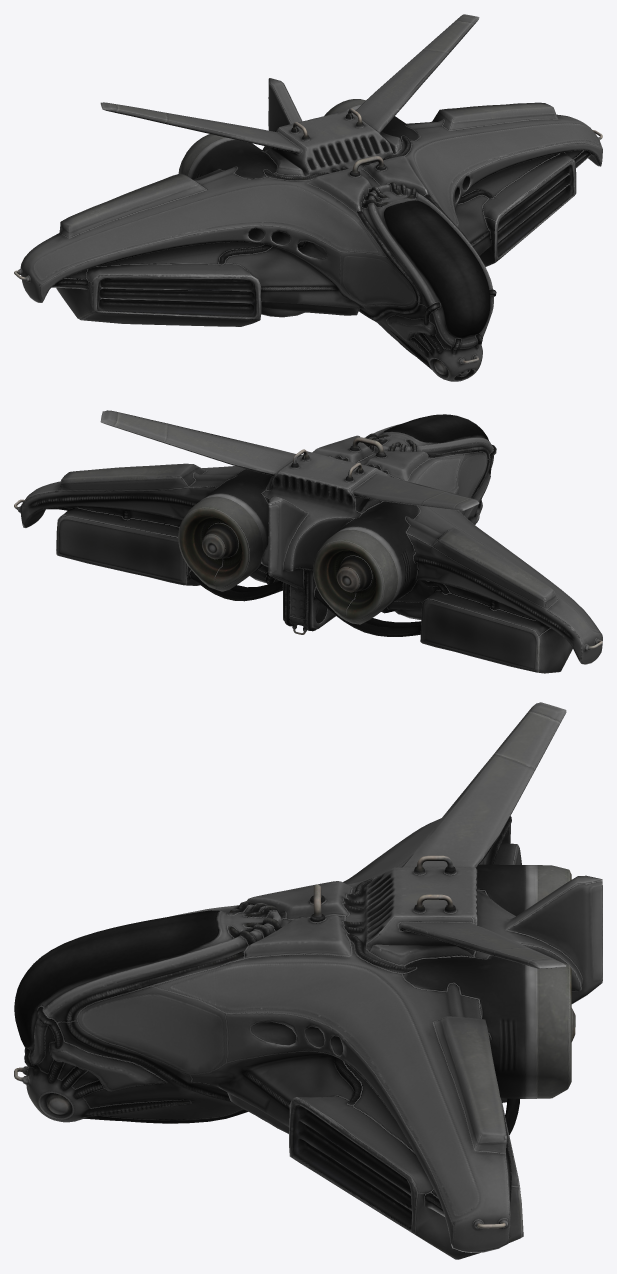
File: intergalactic_spaceship_only_model.glb
The picture shows the model from 3 angles, top to bottom: view 1: azimuth 30°, elevation 25°; view 2: azimuth 150°, elevation 25°; view 3: azimuth 270°, elevation 25°; orthographic projection. The views are drawn at different scales.
Visible parts, largest first — view 1: RetopoGroup2; view 2: RetopoGroup2; view 3: RetopoGroup2.
Boxes of the visible parts, x1,y1,x2,y2 form: RetopoGroup2: (14,14,602,381); RetopoGroup2: (14,410,602,673); RetopoGroup2: (14,702,602,1259).
Bounding box in the file's own units: 9.55 × 3.1 × 5.78.
1 material, 1 textured.
